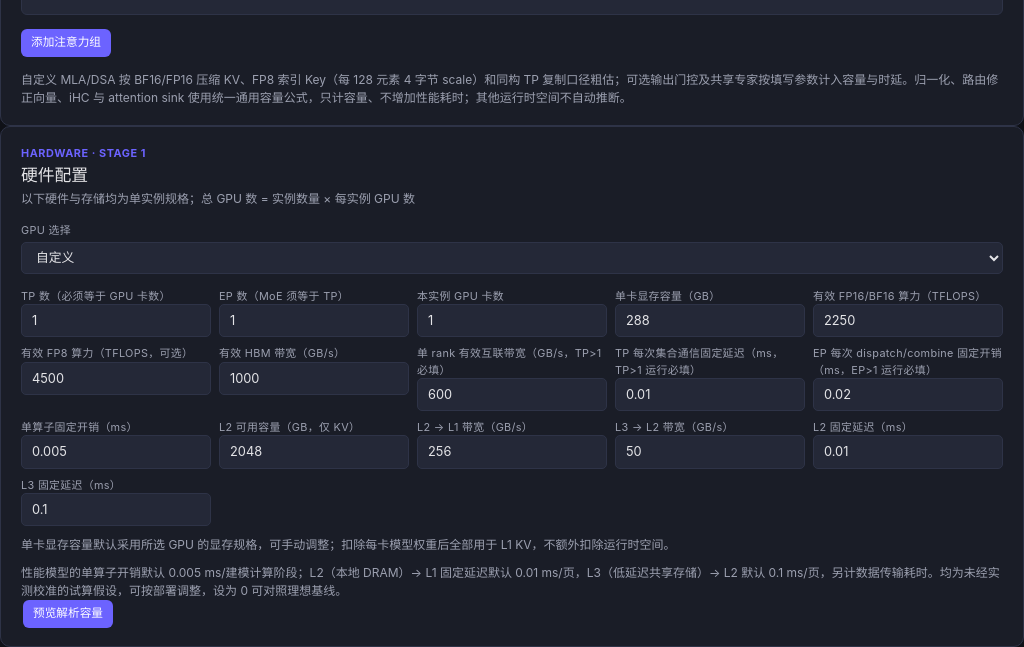
Scenario: ModelHardwareConfig › shows the exact field path for server validation errors during preview
(page scrolled)
Click the button "预览解析容量" at [68, 614], box [23,600,113,628]
(page scrolled)
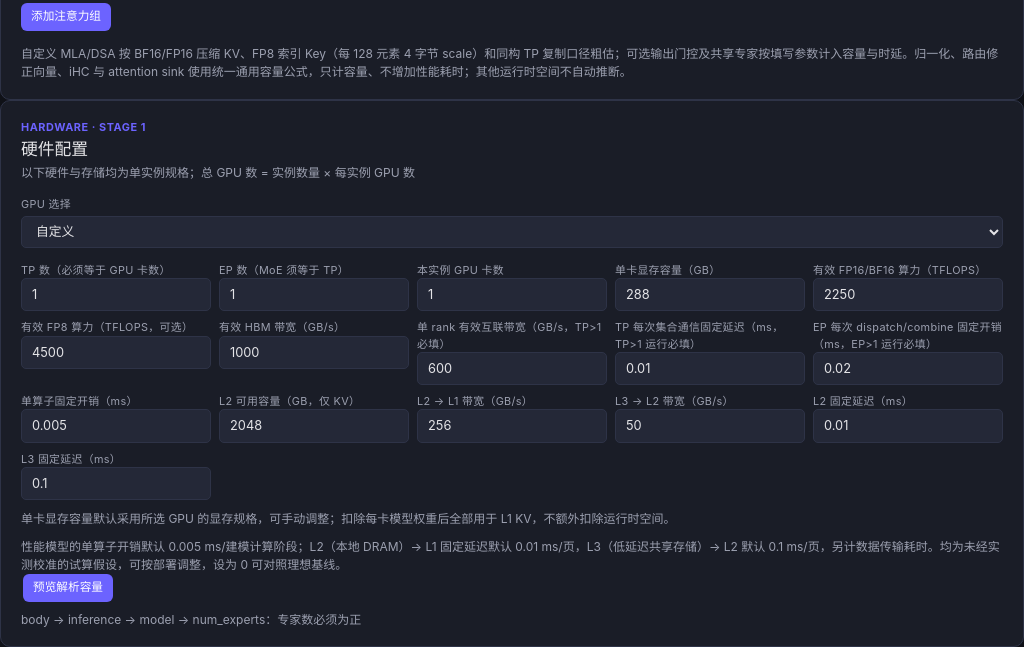
Check: the message reads "body → inference → model → num_experts：专家数必须为正", box [21,612,361,627]
